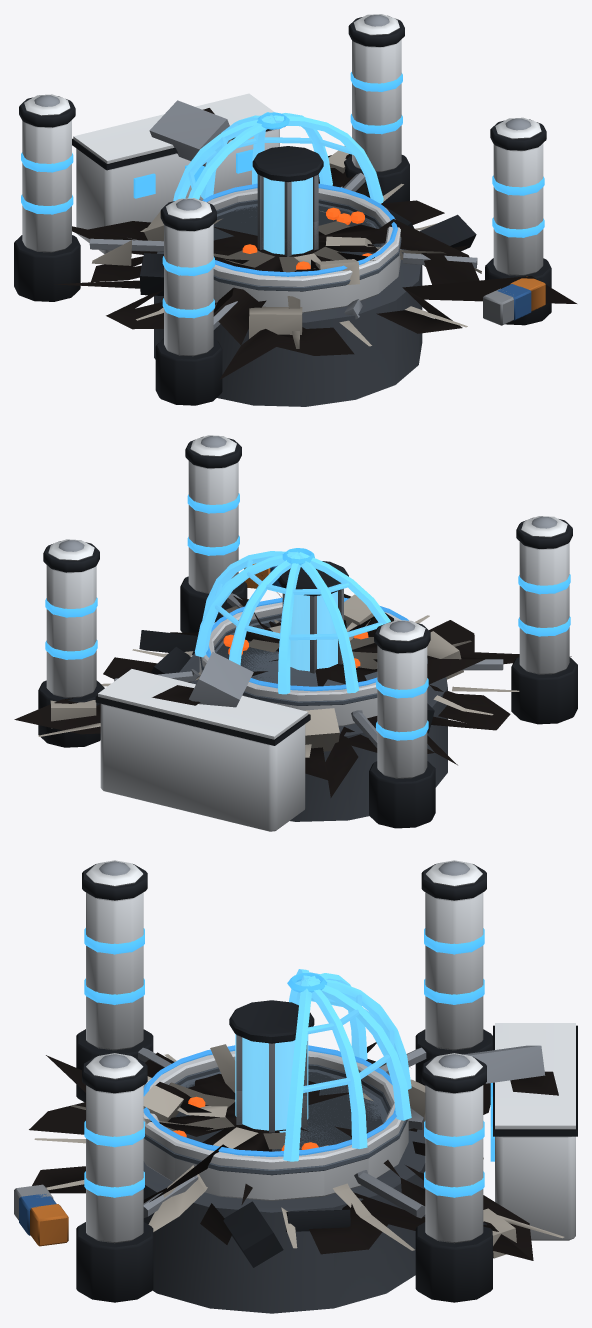
The model's file is shield-depot-vesper.glb.
3 views of the same model, one above another, from view 1: azimuth 30°, elevation 25°; view 2: azimuth 150°, elevation 25°; view 3: azimuth 270°, elevation 25° (orthographic). The views are drawn at different scales.
Parts seen in each view (by area): view 1: site_shield_depot_vesper_body, site_shield_depot_vesper_ruin, site_shield_depot_vesper_core; view 2: site_shield_depot_vesper_body, site_shield_depot_vesper_ruin, site_shield_depot_vesper_core; view 3: site_shield_depot_vesper_body, site_shield_depot_vesper_ruin, site_shield_depot_vesper_core.
Boxes of the visible parts, <box> form: site_shield_depot_vesper_body: <box>14,14,551,406</box>; site_shield_depot_vesper_ruin: <box>54,100,576,379</box>; site_shield_depot_vesper_core: <box>252,146,323,256</box>; site_shield_depot_vesper_body: <box>38,435,577,831</box>; site_shield_depot_vesper_ruin: <box>14,575,571,797</box>; site_shield_depot_vesper_core: <box>277,561,348,673</box>; site_shield_depot_vesper_body: <box>14,860,577,1313</box>; site_shield_depot_vesper_ruin: <box>29,1042,564,1267</box>; site_shield_depot_vesper_core: <box>229,1000,314,1132</box>.
Bounding box in the file's own units: 5.29 × 3.1 × 5.56.
